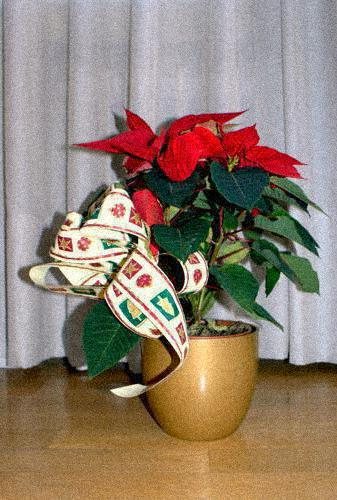Matera: (29, 96, 319, 449)
